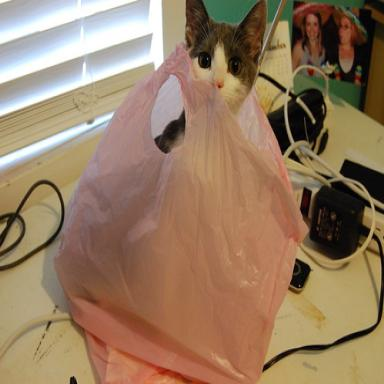plasticbag: (51, 43, 312, 382)
